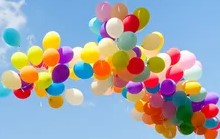Balloon: (1, 70, 21, 91), (105, 17, 124, 38), (93, 61, 111, 80), (2, 27, 19, 47), (150, 44, 167, 64), (41, 48, 59, 66), (64, 88, 83, 105), (74, 62, 93, 79), (112, 51, 129, 70), (41, 31, 59, 48), (99, 38, 116, 56), (141, 34, 160, 50), (28, 45, 43, 65), (178, 52, 195, 69), (52, 65, 68, 83), (96, 1, 112, 19), (122, 14, 138, 32), (147, 57, 165, 73), (11, 51, 28, 67), (35, 70, 51, 87), (127, 57, 144, 73), (160, 79, 177, 95), (81, 47, 99, 62), (181, 81, 200, 95), (176, 104, 191, 121), (46, 81, 64, 95), (201, 103, 219, 117), (21, 67, 37, 82), (161, 103, 176, 118), (127, 81, 143, 94), (149, 94, 164, 107), (50, 95, 64, 108), (192, 113, 205, 127), (179, 122, 193, 135)
